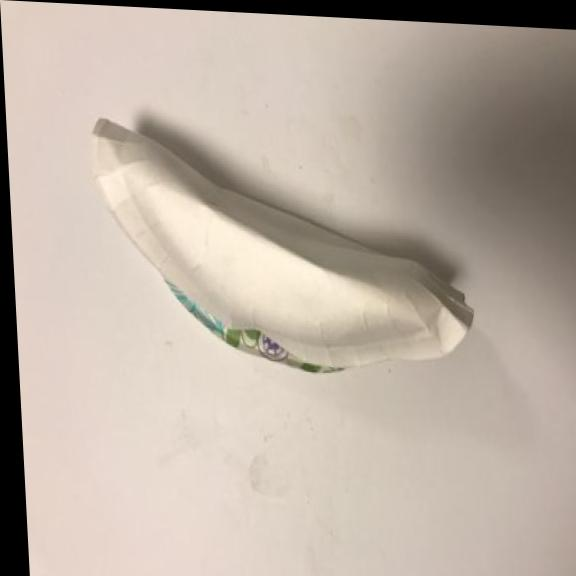Kertas: (83, 103, 495, 399)
